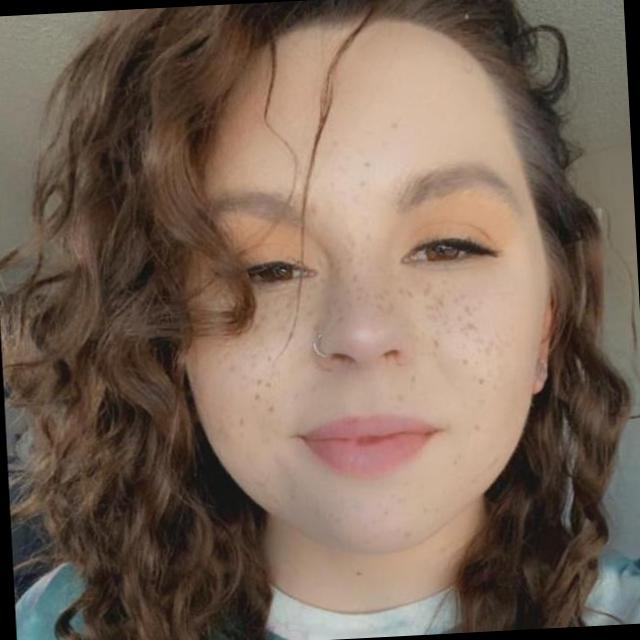freckle: (220, 258, 510, 423), (316, 121, 386, 262)
